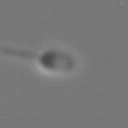normal: (1, 43, 40, 68)
